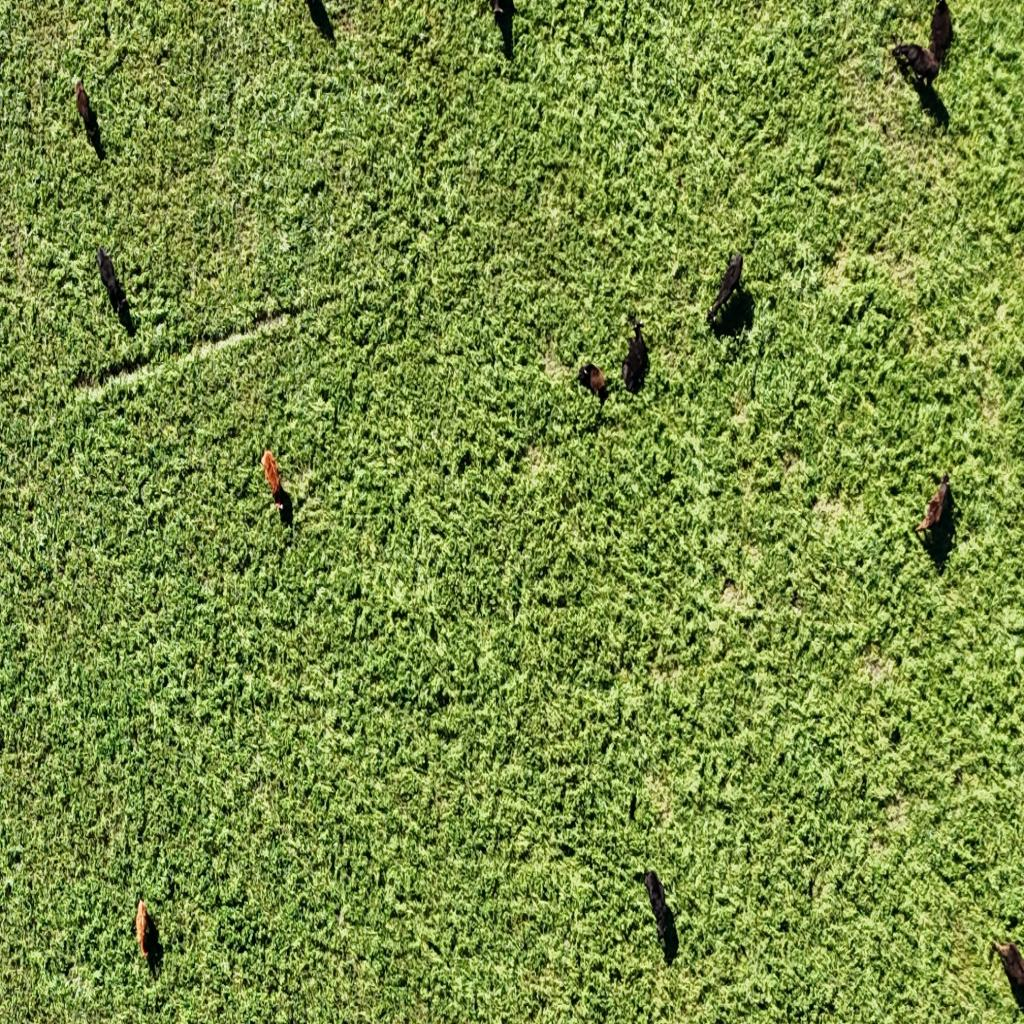cow: (913, 466, 956, 558), (706, 252, 744, 327), (990, 939, 1024, 1007), (620, 322, 650, 398), (643, 868, 673, 944), (892, 42, 940, 86), (259, 449, 288, 515), (96, 246, 122, 310), (929, 0, 953, 64), (136, 899, 158, 964), (577, 362, 607, 404), (75, 80, 94, 137)
